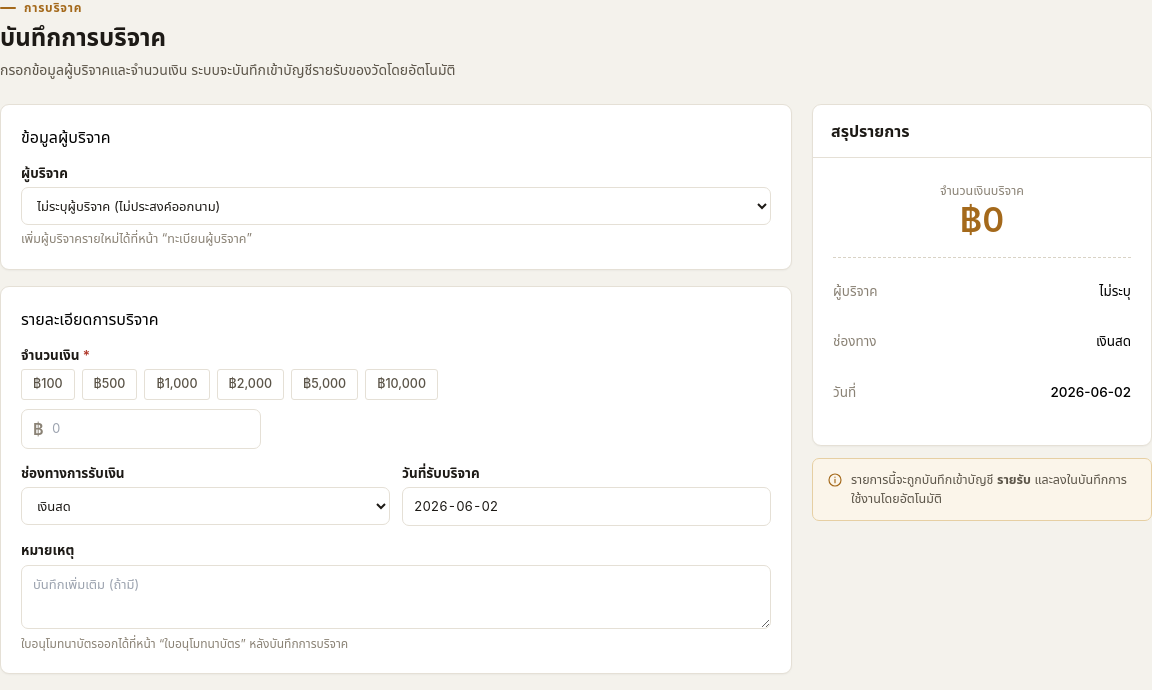
DesignDonations — wired to POST /donations › validates, posts the donation (baht→satang) and confirms via toast
This screenshot has width=1152, height=690.
Click the button with class "chip" showing "฿5,000" at [325, 385], box [291, 369, 358, 400]
(page scrolled)
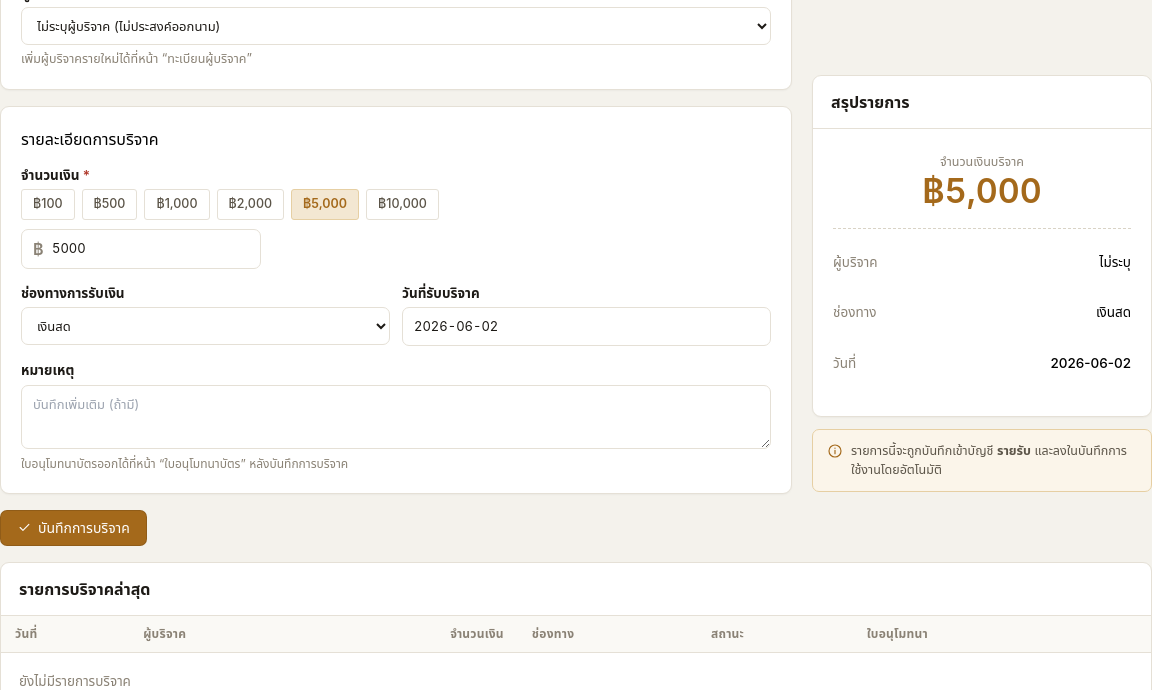
Click the button "บันทึกการบริจาค" at [73, 528], box [0, 510, 147, 546]
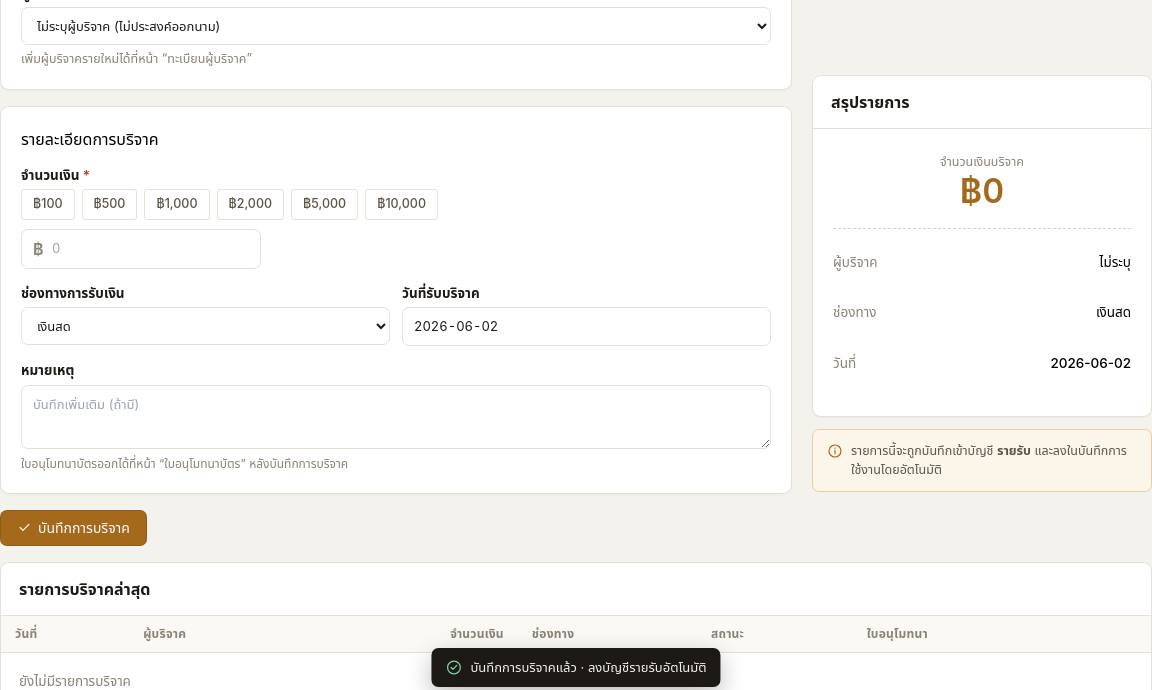
Result: the text "บันทึกการบริจาคแล้ว" is shown at [470, 658, 706, 674]
